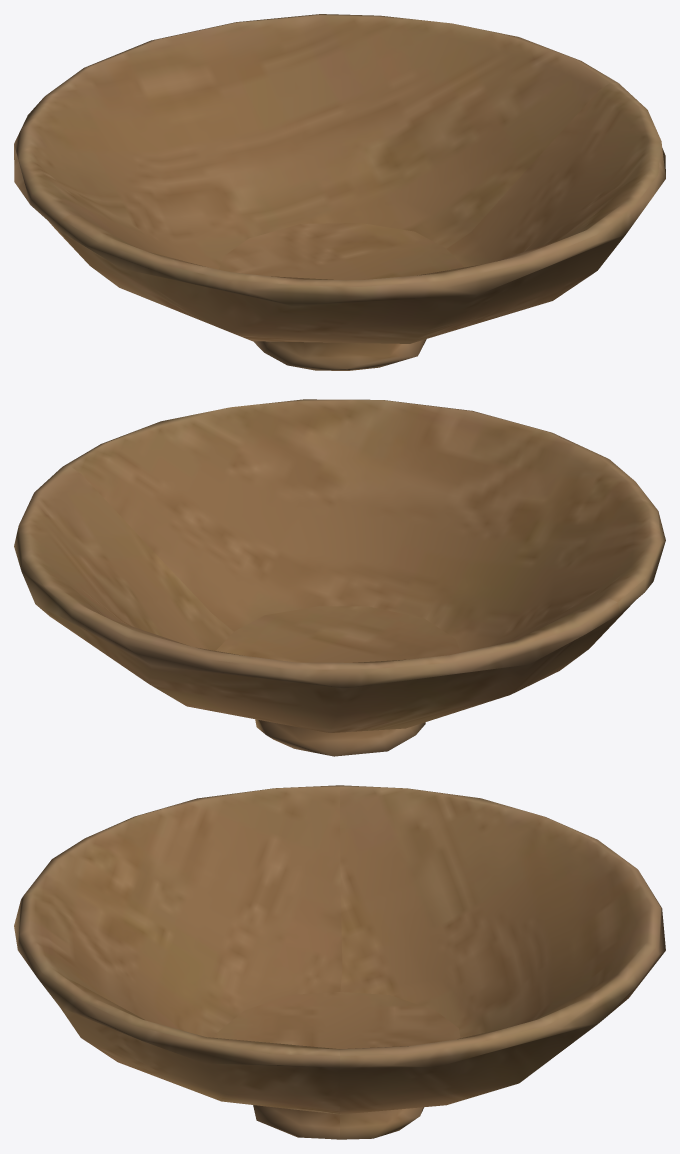
The model's file is SM_Fruit_Plate_e5e2c6.glb.
3 views of the same model, one above another, from view 1: azimuth 30°, elevation 25°; view 2: azimuth 150°, elevation 25°; view 3: azimuth 270°, elevation 25° (orthographic).
Size of the model in its own units: 0.3634 by 0.1164 by 0.3663.
1 material, 1 textured.
